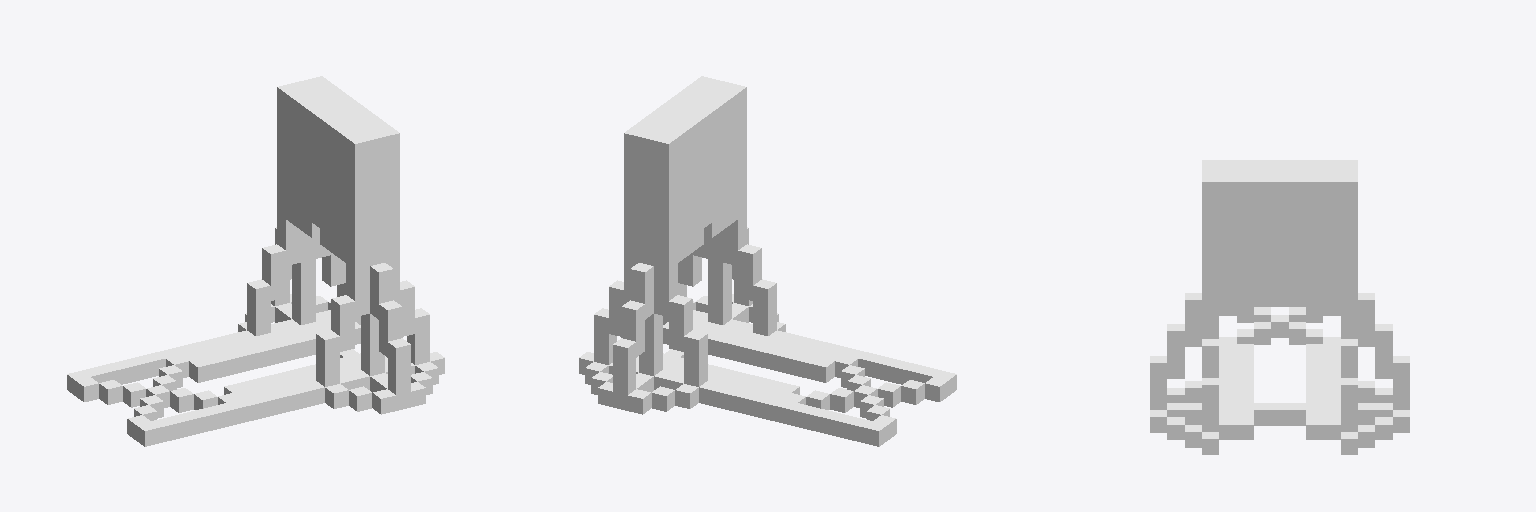
File: Baseofmemechute.obj
The picture shows the model from 3 angles: view 1: azimuth 30°, elevation 25°; view 2: azimuth 150°, elevation 25°; view 3: azimuth 270°, elevation 25°; orthographic projection.
Bounding box in the file's own units: 20 × 16 × 15.